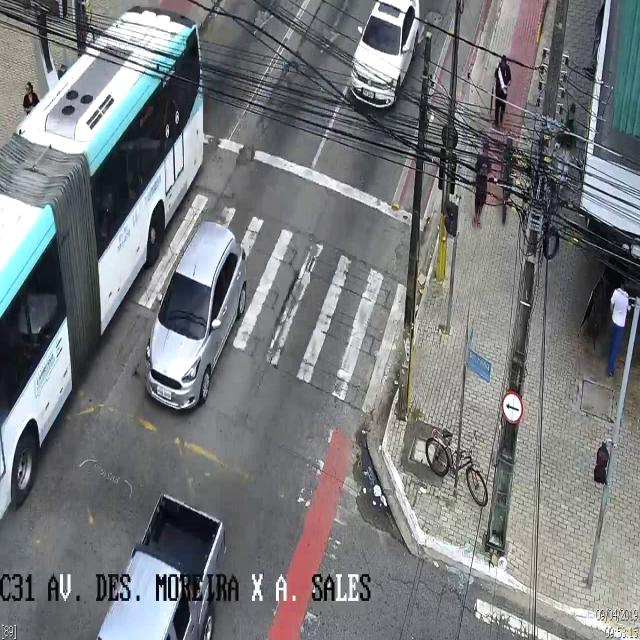Bus: (0, 0, 227, 526)
Car: (144, 220, 246, 413), (92, 495, 224, 639), (347, 0, 420, 124)
